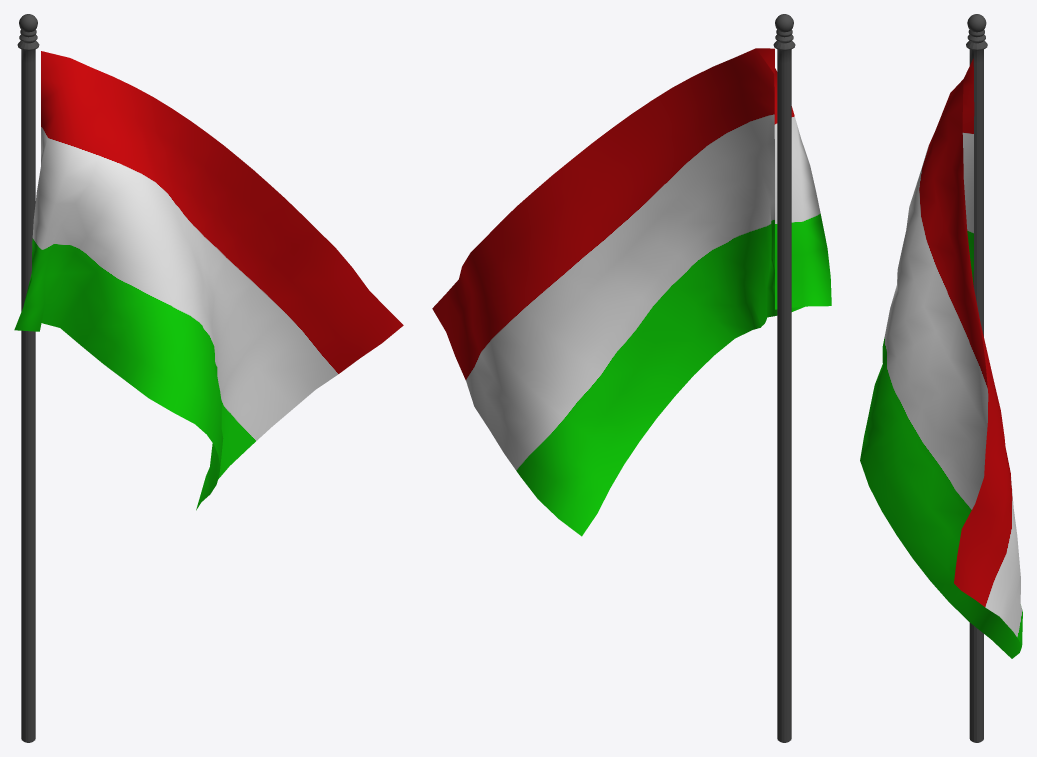
The model's file is Flag.gltf.
3 renders of one model, left to right at view 1: azimuth 30°, elevation 25°; view 2: azimuth 150°, elevation 25°; view 3: azimuth 270°, elevation 25°, orthographic.
Parts seen in each view (by area): view 1: flagCloth, flagPole; view 2: flagCloth, flagPole; view 3: flagCloth, flagPole.
Boxes of the visible parts, bbox=[...] form: flagCloth: bbox=[14, 51, 403, 510]; flagPole: bbox=[17, 14, 39, 742]; flagCloth: bbox=[432, 48, 831, 536]; flagPole: bbox=[773, 14, 795, 742]; flagCloth: bbox=[860, 58, 1022, 658]; flagPole: bbox=[966, 14, 987, 742].
Bounding box in the file's own units: 2.39 × 4.21 × 0.8554.
